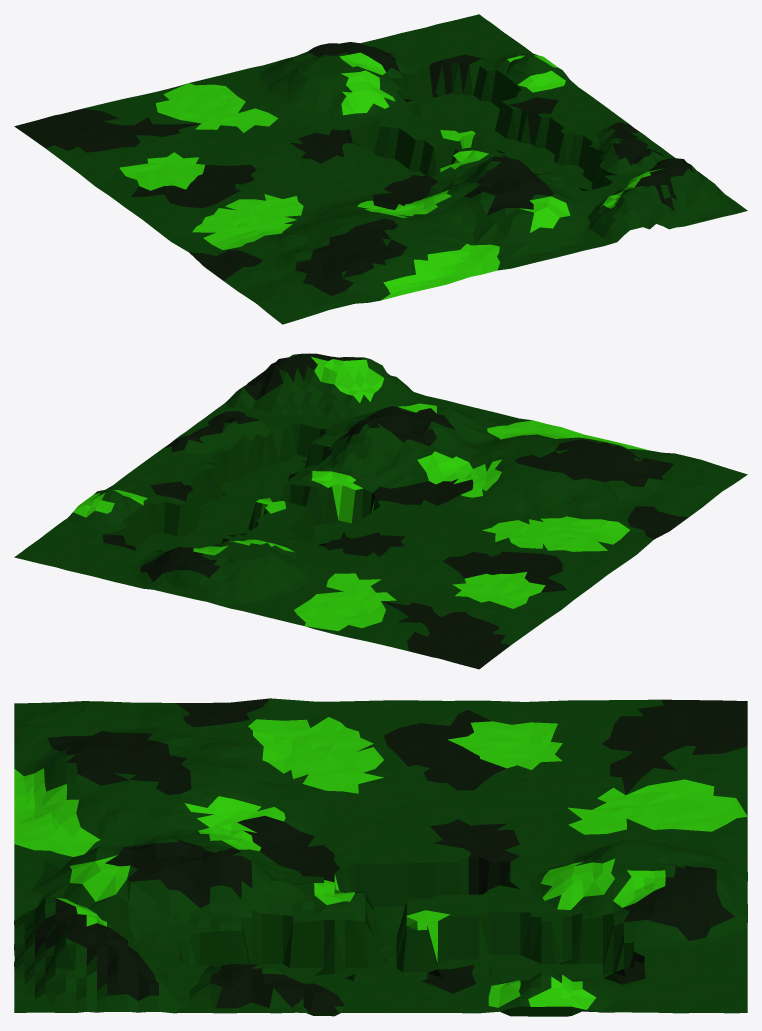
The model's file is terrain.obj.
3 renders of one model, top to bottom at view 1: azimuth 30°, elevation 25°; view 2: azimuth 150°, elevation 25°; view 3: azimuth 270°, elevation 25°, orthographic. The views are drawn at different scales.
Visible parts, largest first — view 1: 평면; view 2: 평면; view 3: 평면.
Boxes of the visible parts, <box> form: 평면: <box>14,14,747,324</box>; 평면: <box>14,353,747,669</box>; 평면: <box>14,698,747,1016</box>.
Bounding box in the file's own units: 440 × 58.86 × 440.
